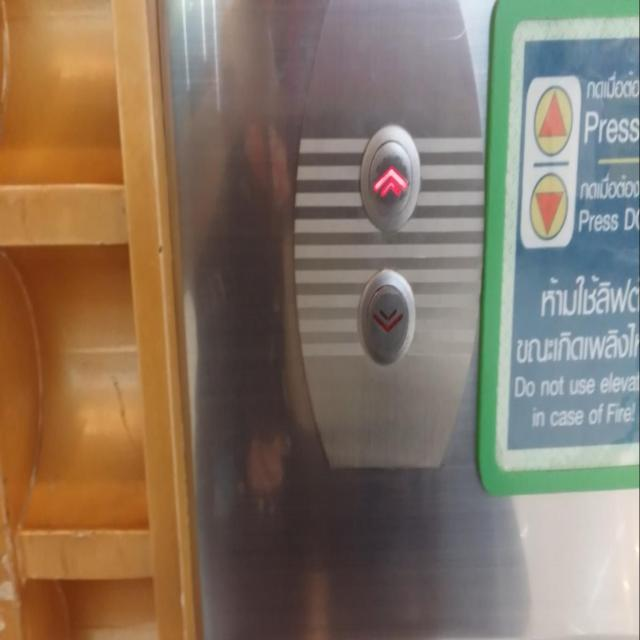down: (354, 264, 419, 379)
up: (358, 119, 422, 234)
